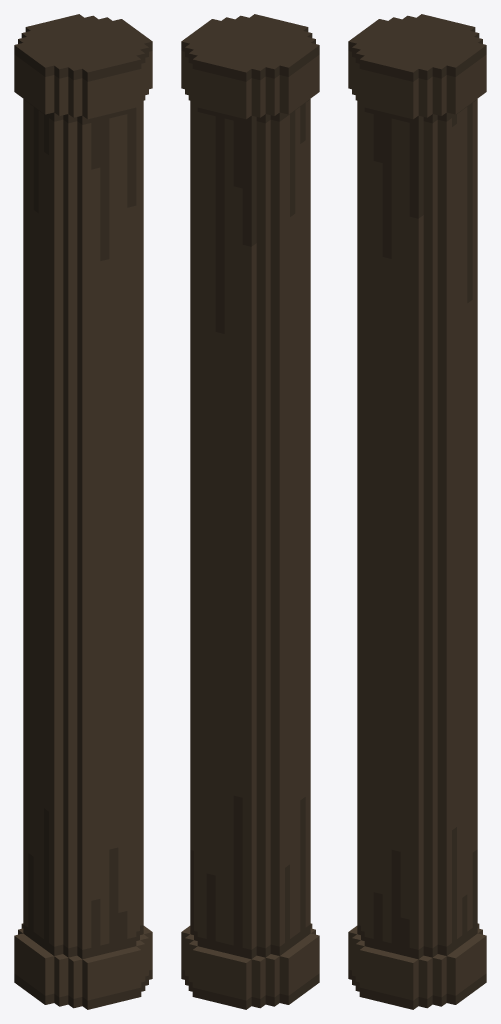
File: GGJ pillar.obj
3 renders of one model, left to right at view 1: azimuth 30°, elevation 25°; view 2: azimuth 150°, elevation 25°; view 3: azimuth 330°, elevation 25°, orthographic.
Size of the model in its own units: 1.2 by 10 by 1.2.
1 material, 1 textured.
